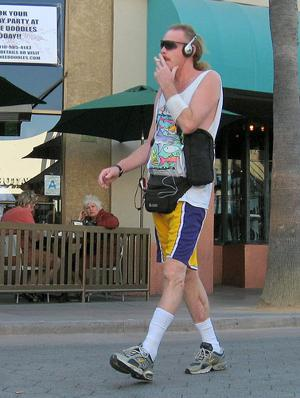person: (98, 16, 228, 388)
